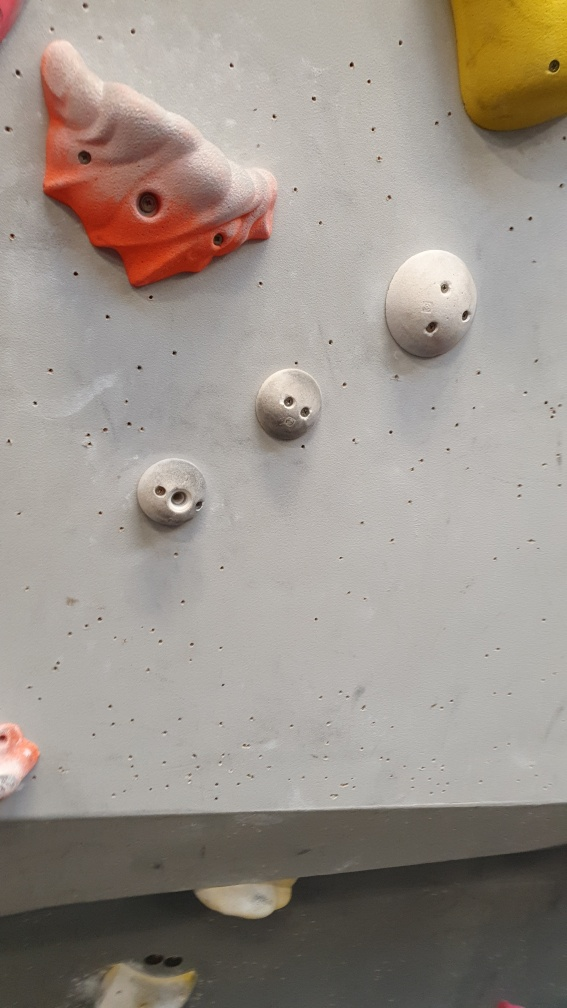Hand Start: (139, 949, 167, 973), (165, 948, 185, 971)
Jug: (35, 37, 283, 291)
Sloper: (383, 247, 480, 363), (135, 456, 214, 534), (252, 365, 326, 447)
